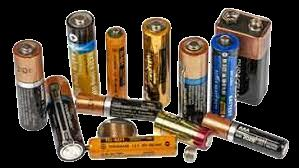Battery: (12, 39, 50, 132)
